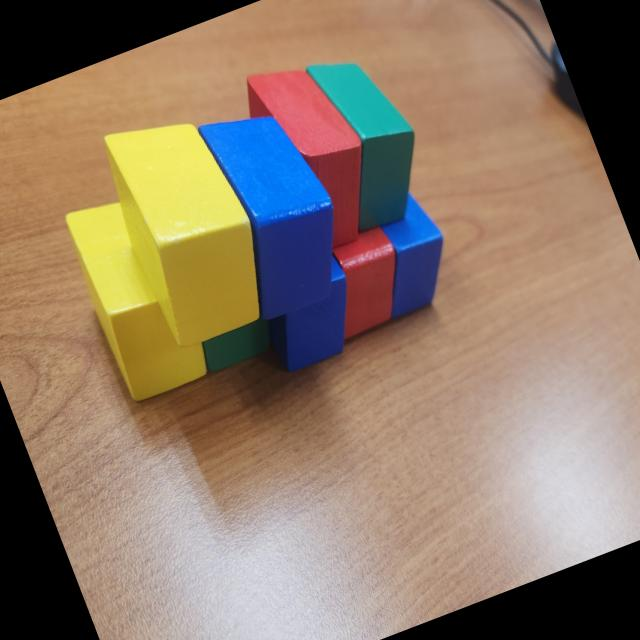blue: (190, 90, 363, 322), (350, 184, 465, 322), (250, 248, 371, 376)
green: (296, 38, 443, 237), (197, 316, 281, 378)
red: (234, 45, 394, 261), (310, 224, 419, 340)
yellow: (91, 97, 285, 354), (59, 184, 215, 406)
